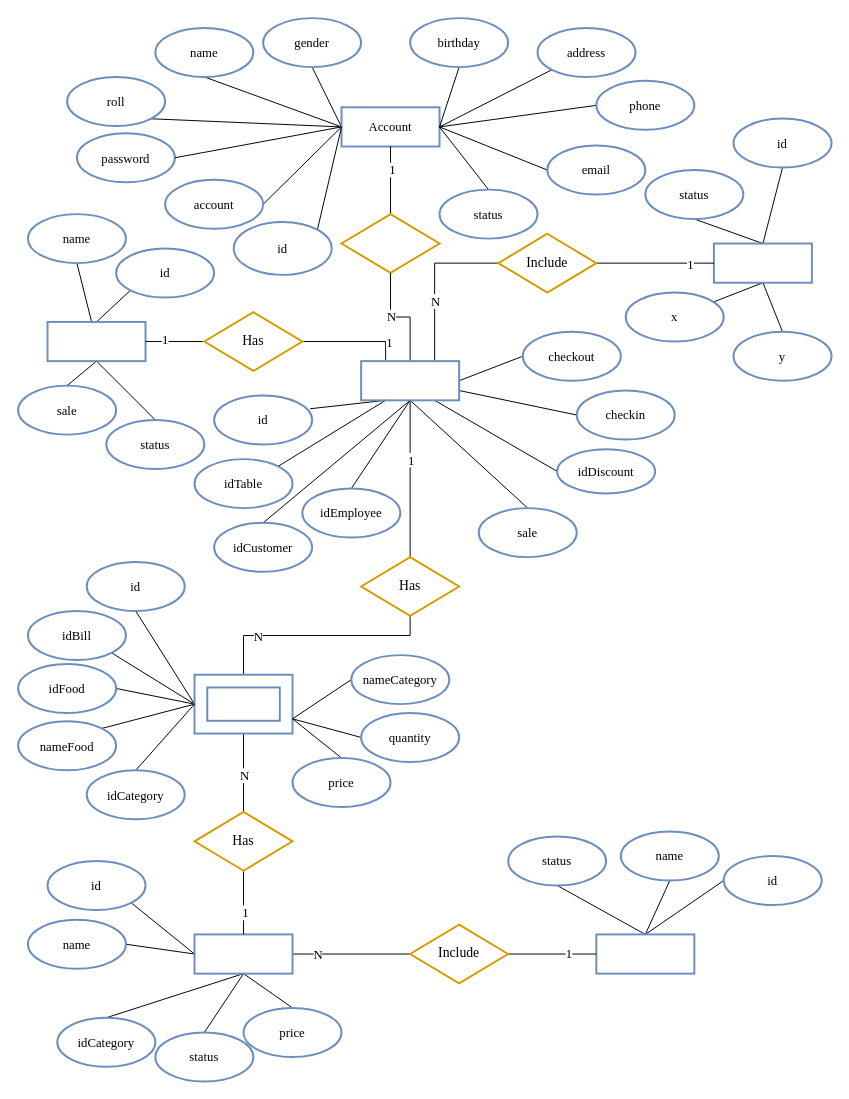
Image size: 849x1099. Some labels were removed from this diagram. The box of each missing label's shape, as (x1, y1, x2, y2) in pixels:
Bill: (360, 360, 460, 401)
BillDetail: (193, 673, 293, 734)
Category: (595, 933, 695, 974)
Discount: (46, 320, 146, 362)
Food: (193, 933, 293, 974)
Order: (340, 213, 440, 273)
Table: (712, 242, 812, 283)
